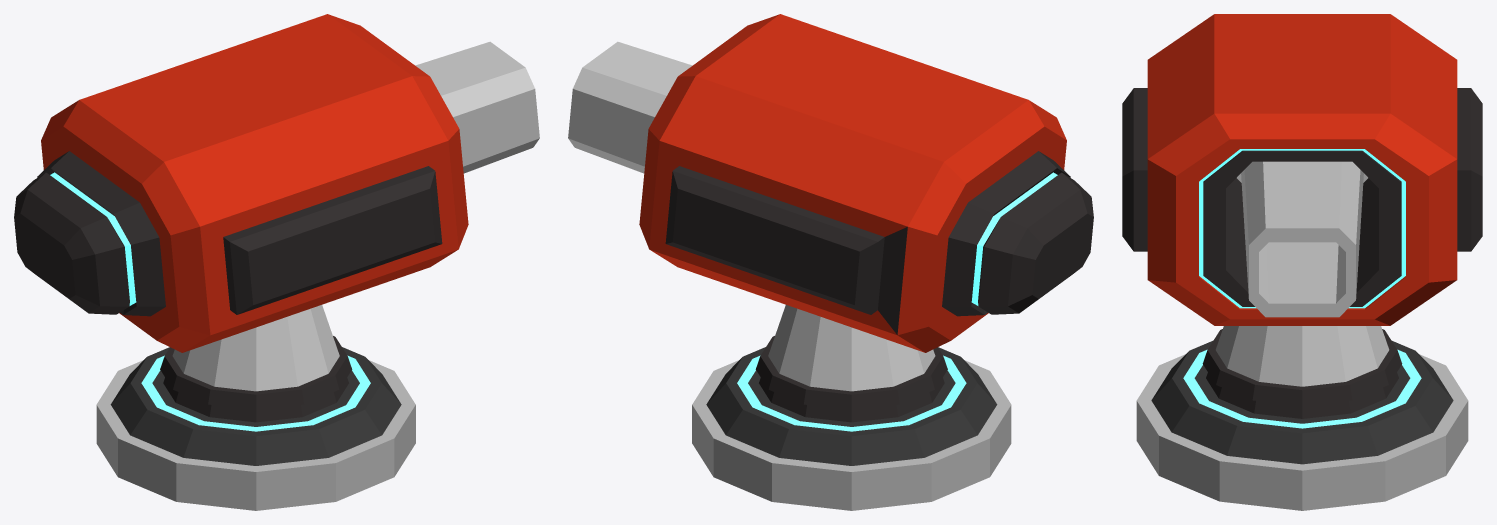
File: Rocket_Launcher2 (1).fbx
The picture shows the model from 3 angles, left to right: view 1: azimuth 30°, elevation 25°; view 2: azimuth 150°, elevation 25°; view 3: azimuth 270°, elevation 25°; orthographic projection. The views are drawn at different scales.
Visible parts, largest first — view 1: Rocket_Launcher_main, Rocket_Launcher_stand; view 2: Rocket_Launcher_main, Rocket_Launcher_stand; view 3: Rocket_Launcher_main, Rocket_Launcher_stand.
Part boxes in pixels (left/top/right/bottom): Rocket_Launcher_main: left=14, top=14, right=539, bottom=352; Rocket_Launcher_stand: left=96, top=305, right=415, bottom=510; Rocket_Launcher_main: left=568, top=14, right=1093, bottom=352; Rocket_Launcher_stand: left=692, top=305, right=1011, bottom=510; Rocket_Launcher_main: left=1122, top=14, right=1482, bottom=325; Rocket_Launcher_stand: left=1136, top=326, right=1468, bottom=510.
Bounding box in the file's own units: 3.42 × 2.56 × 2.17.
Materials: 1 (1 with a texture image).
